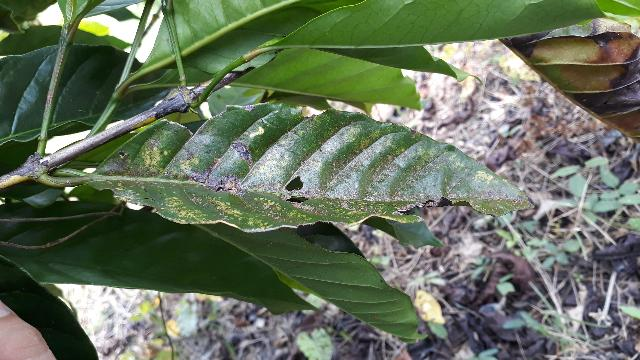rust_level_3: (93, 104, 533, 231)
